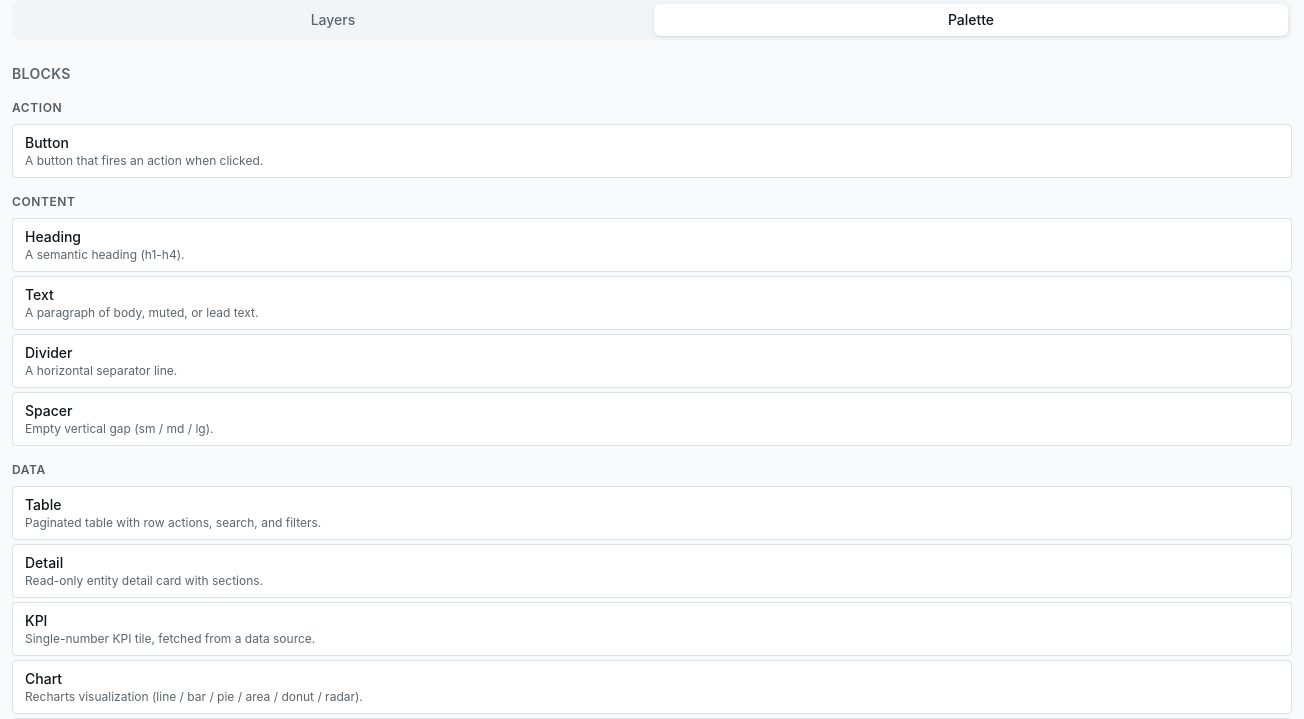
Scenario: LayersPalettePanel — empty Layers tab hint › shows the EmptyLayersHint when the schema is empty + Layers is active
Click the tab with test id "rail-tab-layers": coordinates (333, 20) [16,4,650,36]
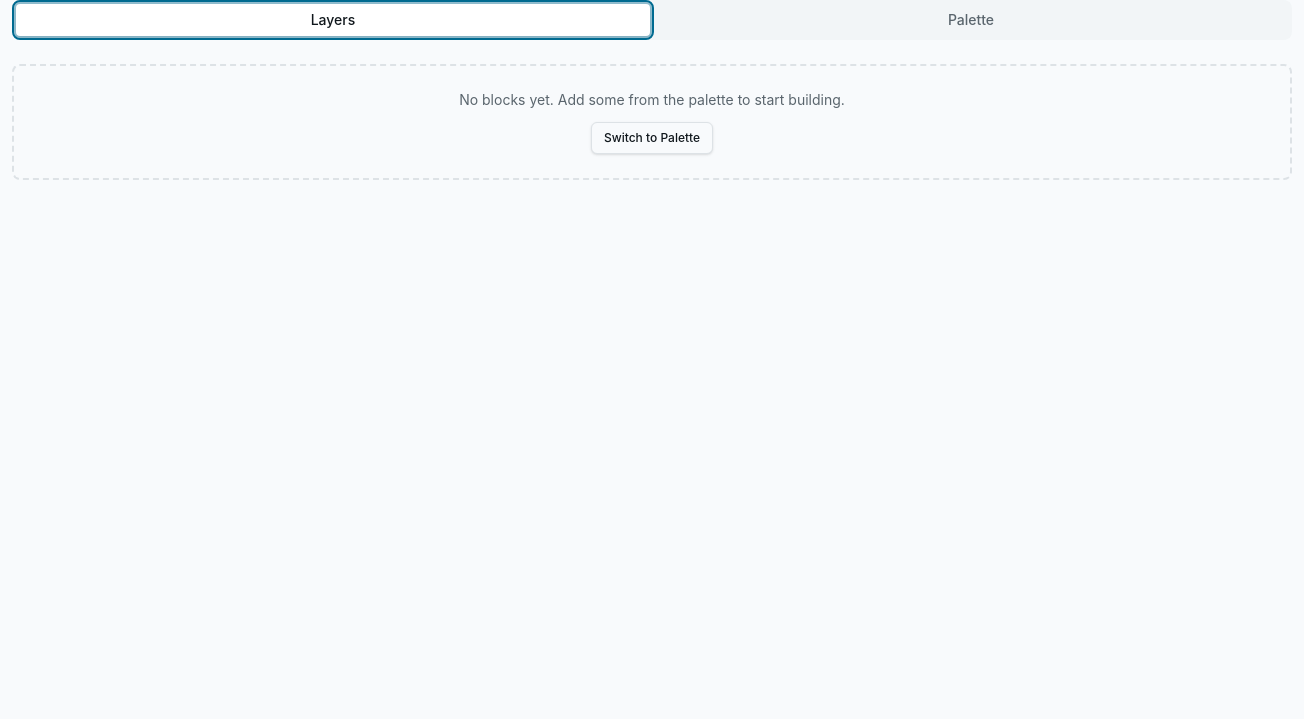
expect the element with test id "rail-empty-layers-hint" is shown: met, box [12,64,1292,180]
expect the text "No blocks yet. Add some from the palette to start building." is shown: met, box [459,91,845,108]
